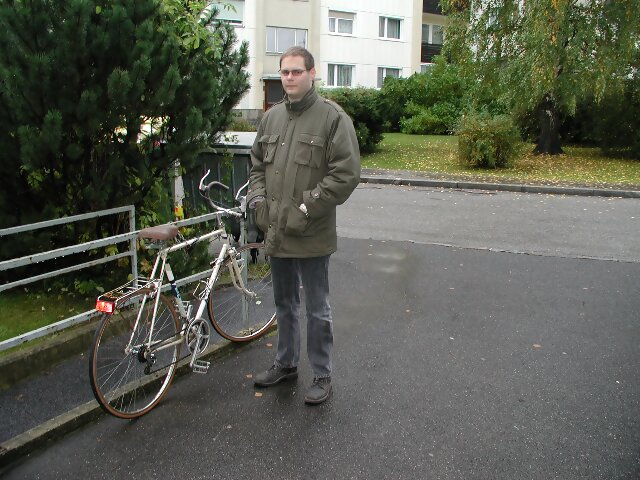person: (244, 44, 364, 405)
